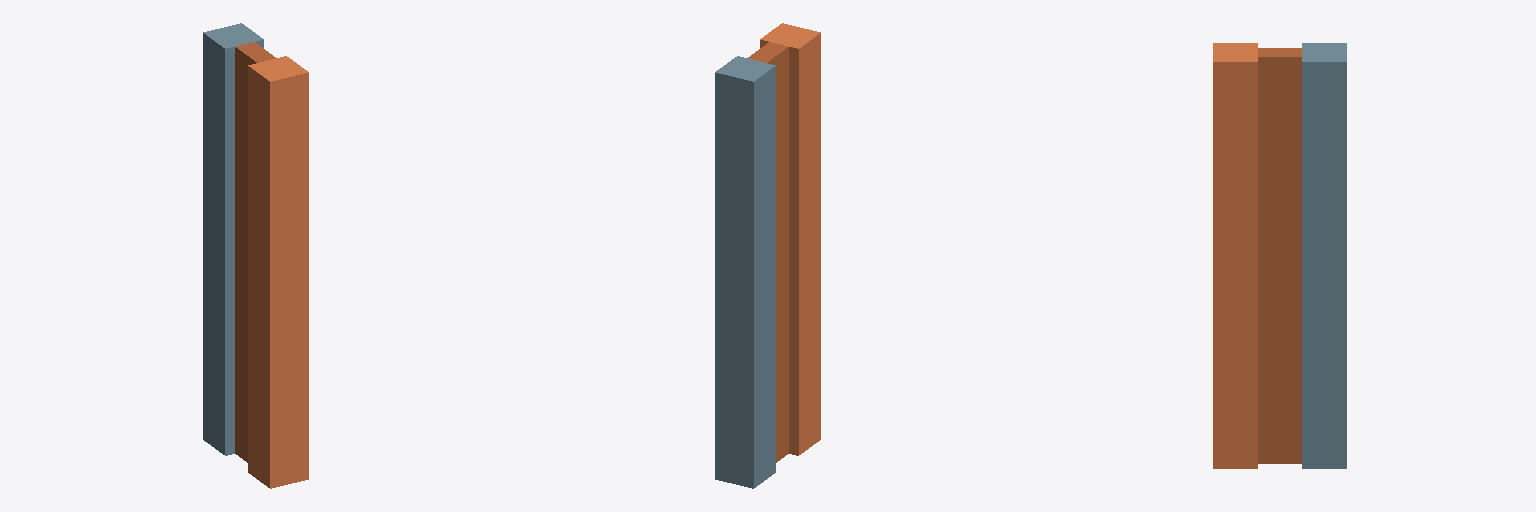
The model's file is wallWoodArch.obj.
3 views of the same model, side by side, from view 1: azimuth 30°, elevation 25°; view 2: azimuth 150°, elevation 25°; view 3: azimuth 270°, elevation 25° (orthographic).
Visible parts, largest first — view 1: wallWoodArch; view 2: wallWoodArch; view 3: wallWoodArch.
Part boxes in pixels (x1,y1,x2,y2): wallWoodArch: (203, 23, 308, 488); wallWoodArch: (715, 23, 820, 488); wallWoodArch: (1213, 43, 1346, 468).
Bounding box in the file's own units: 0.1 × 1 × 0.3.